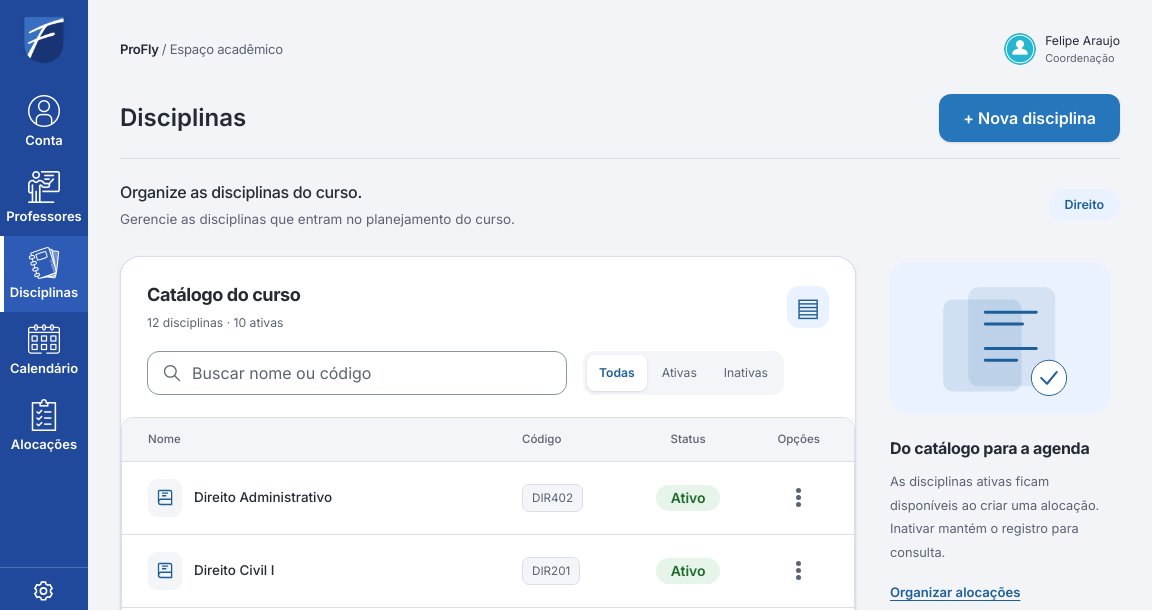
Test: Disciplinas › formulário › exige o nome e foca o campo
Expected: the text "Direito Civil I" is shown, [148,552,274,590]
Step 1. Click the button "+ Nova disciplina" → click(1030, 118), box [939,94,1120,142]
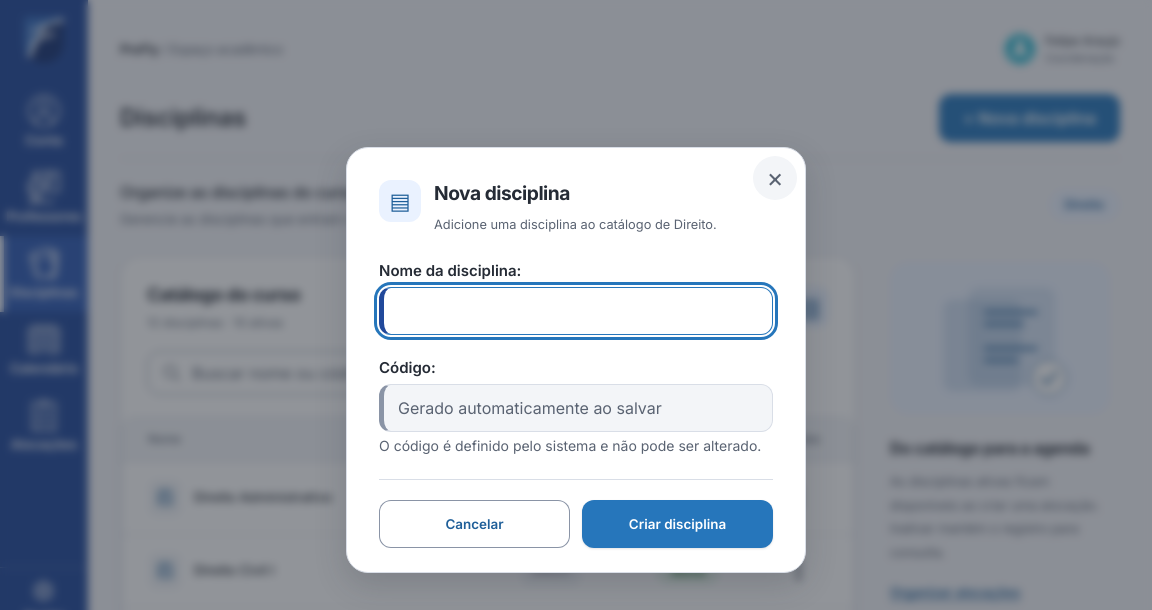
Step 2. Click the button "Criar disciplina" → click(678, 524), box [582,500,773,548]
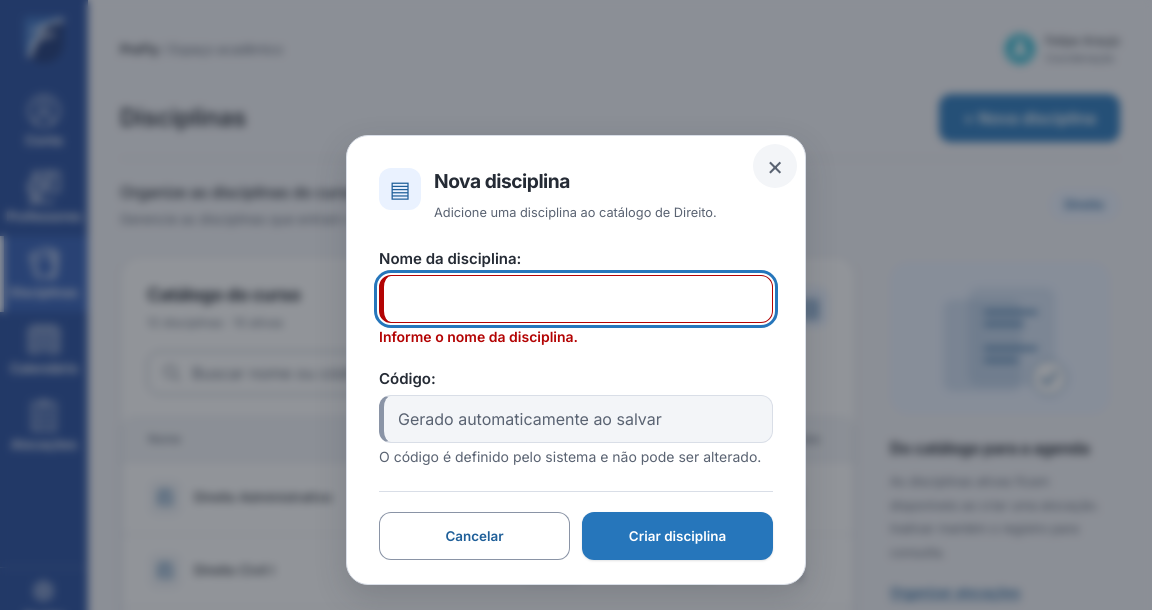
Result: the text "Informe o nome da disciplina." is shown at [379,328,578,345]
